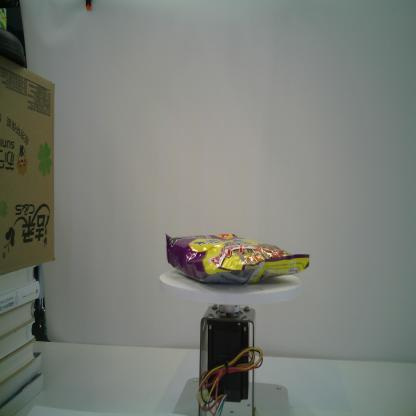Instant Noodles: (165, 233, 310, 286)
